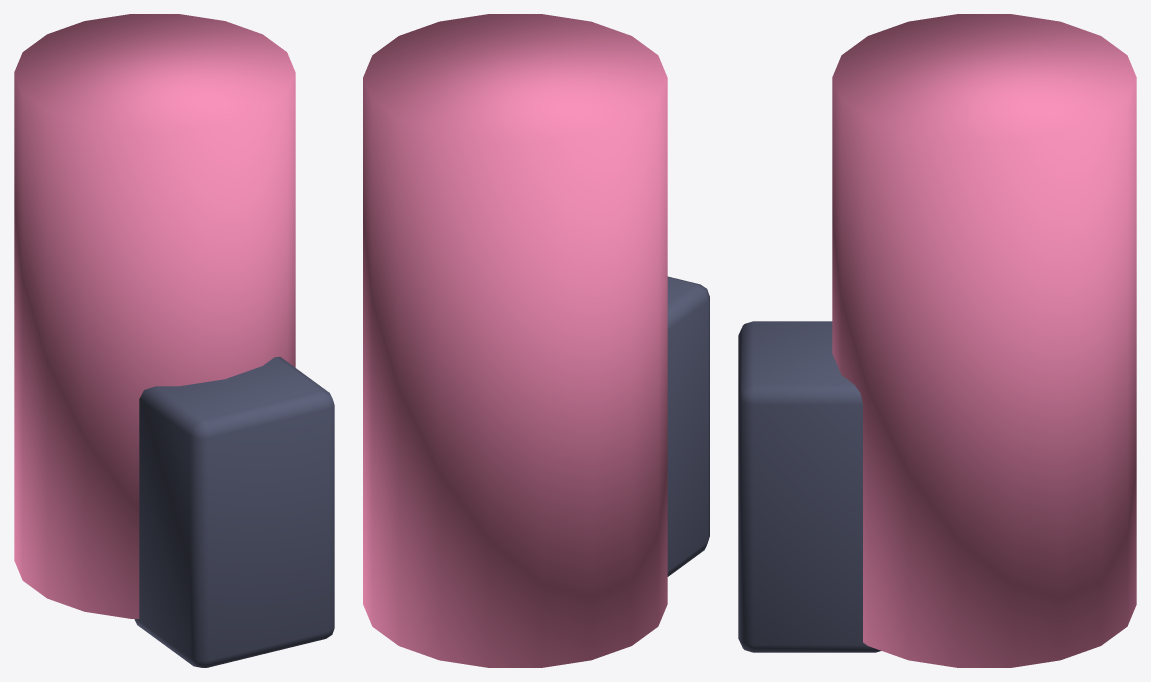
The model's file is FestivalConfetti.fbx.
The picture shows the model from 3 angles, left to right: view 1: azimuth 30°, elevation 25°; view 2: azimuth 150°, elevation 25°; view 3: azimuth 270°, elevation 25°; orthographic projection. The views are drawn at different scales.
Parts seen in each view (by area): view 1: FestivalConfetti Rose__Rose, FestivalConfetti Dark__Dark; view 2: FestivalConfetti Rose__Rose, FestivalConfetti Dark__Dark; view 3: FestivalConfetti Rose__Rose, FestivalConfetti Dark__Dark.
Boxes of the visible parts, <box> form: FestivalConfetti Rose__Rose: <box>14,14,295,618</box>; FestivalConfetti Dark__Dark: <box>134,356,334,667</box>; FestivalConfetti Rose__Rose: <box>363,14,667,667</box>; FestivalConfetti Dark__Dark: <box>667,276,709,576</box>; FestivalConfetti Rose__Rose: <box>832,14,1136,667</box>; FestivalConfetti Dark__Dark: <box>738,321,881,652</box>.
Bounding box in the file's own units: 33.48 × 67 × 44.5.
